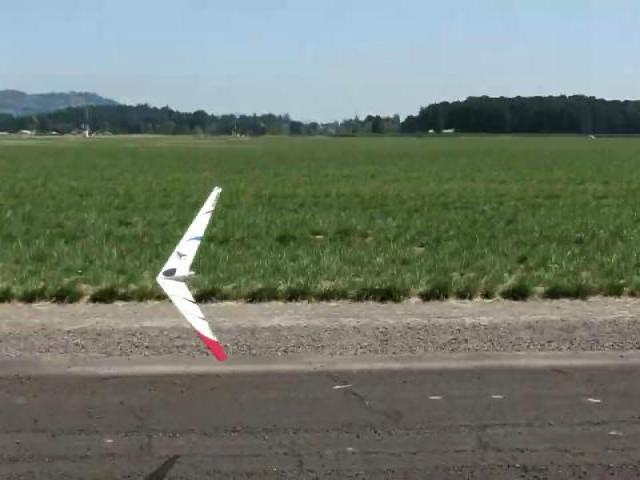flying wing: (153, 182, 230, 370)
